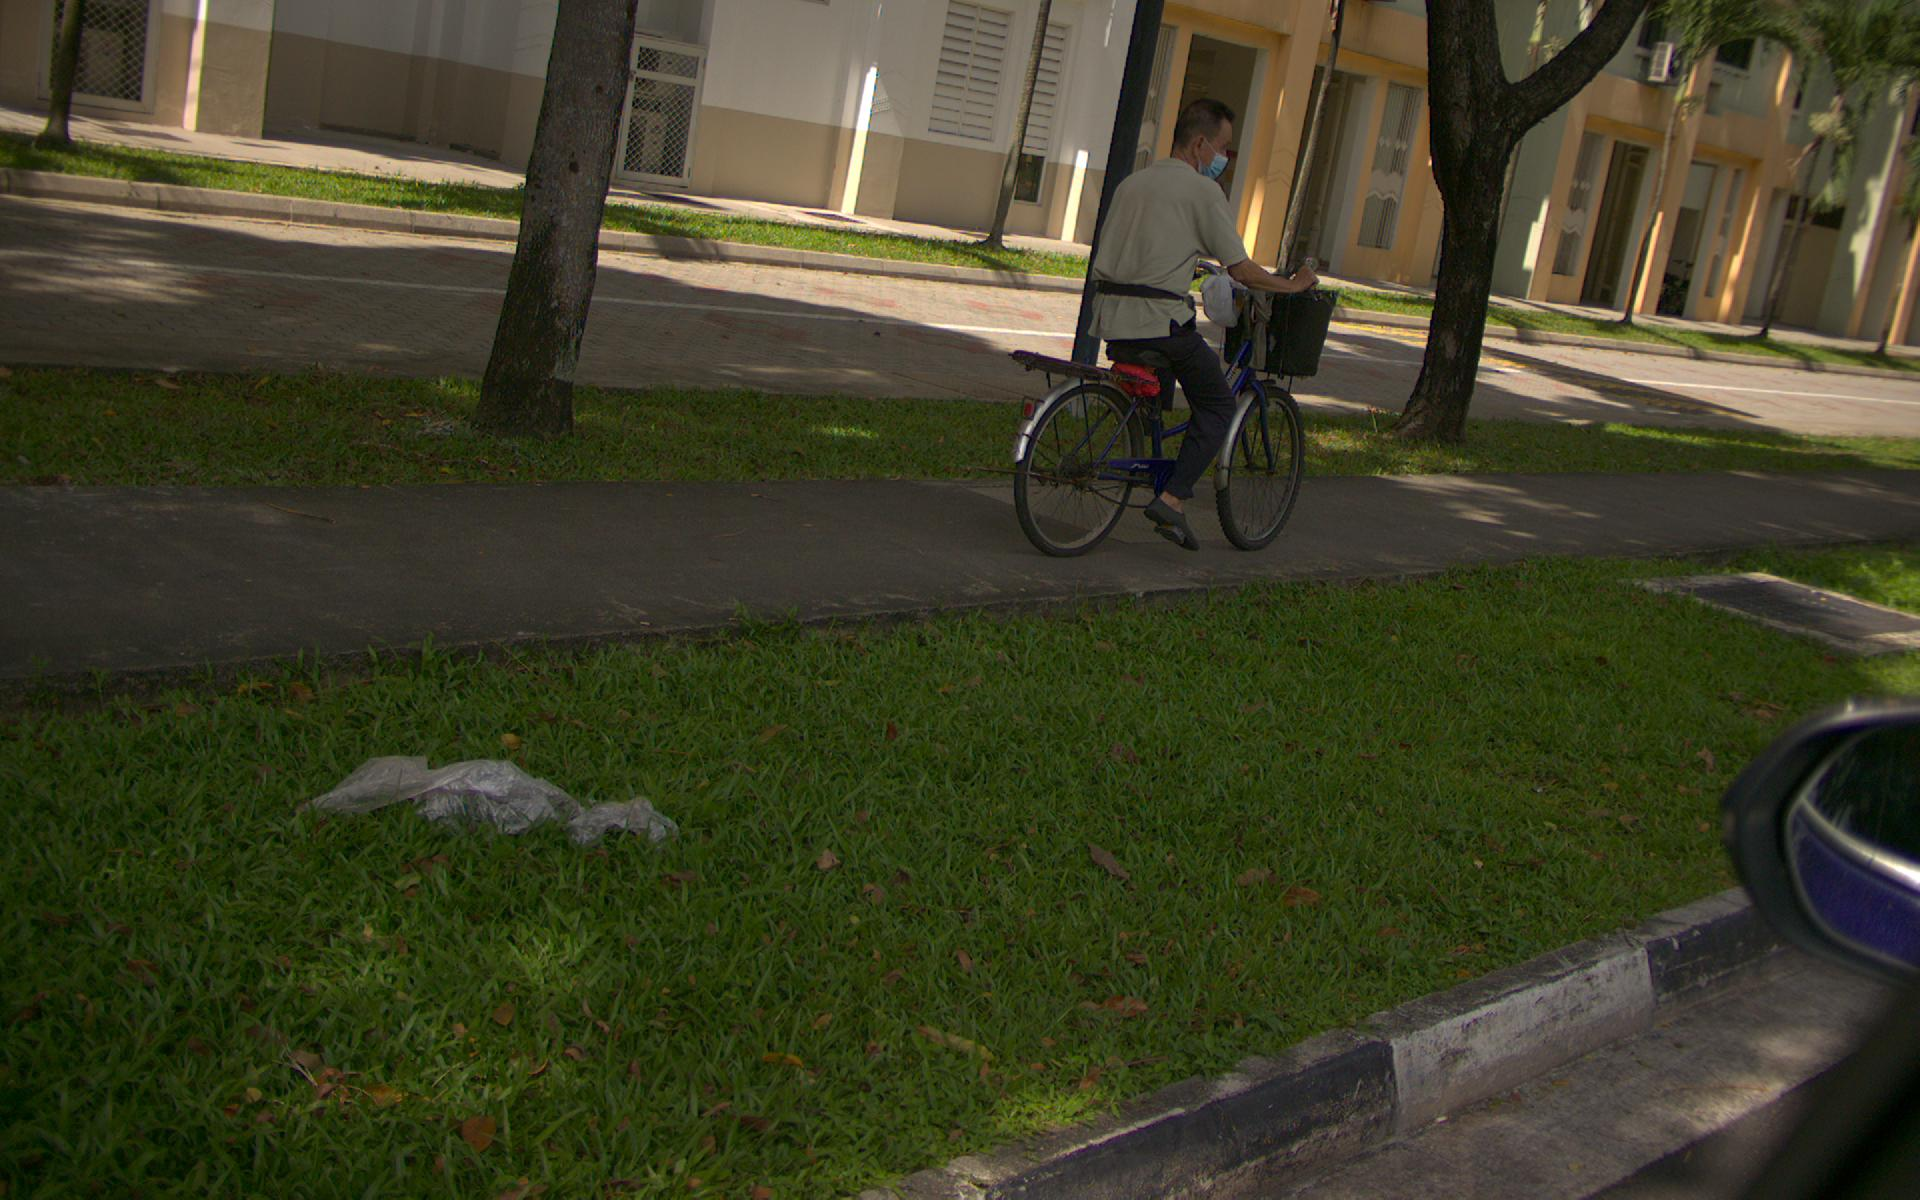pathway_low: (15, 701, 839, 1142), (878, 635, 1509, 955), (12, 254, 947, 400), (6, 482, 999, 601)
road_turf_low: (4, 368, 556, 477)
